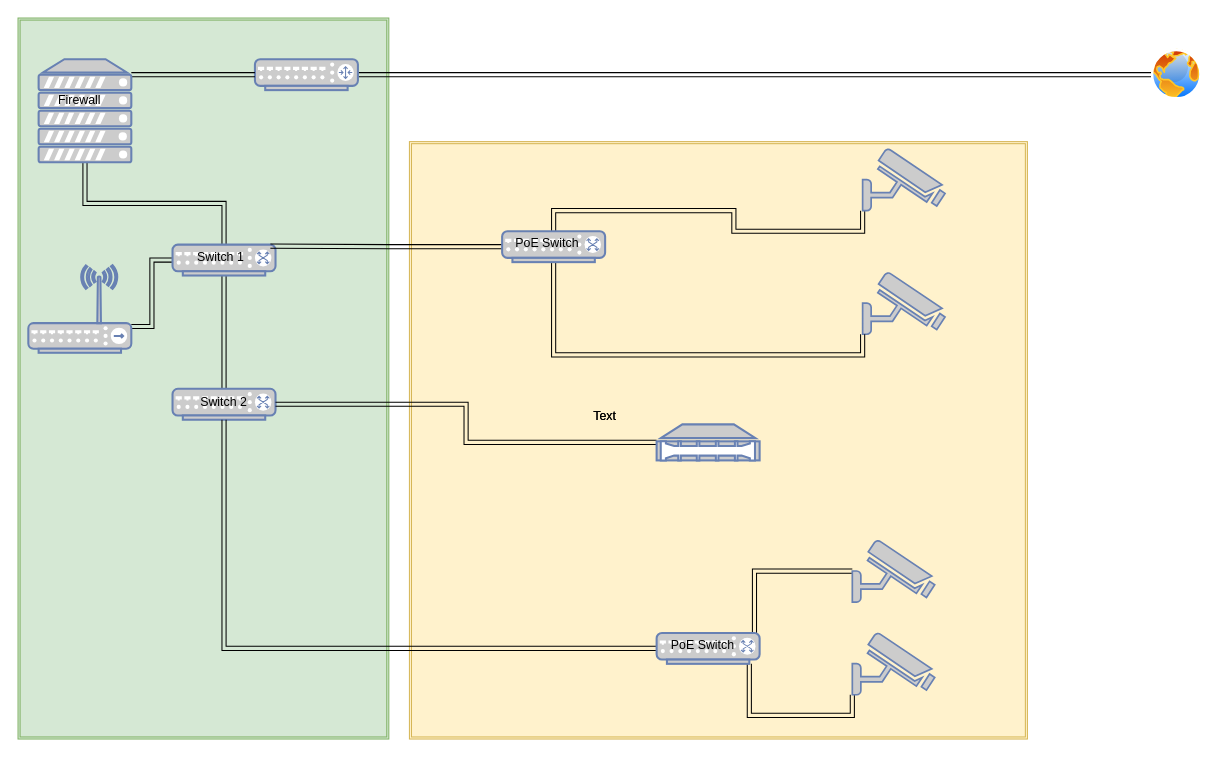
Image size: 1221x757. Some labels were removed from this diagram. Each missing label, with the centre of its shape:
ISP Router: (x=305, y=74)
NVR: (x=707, y=442)
